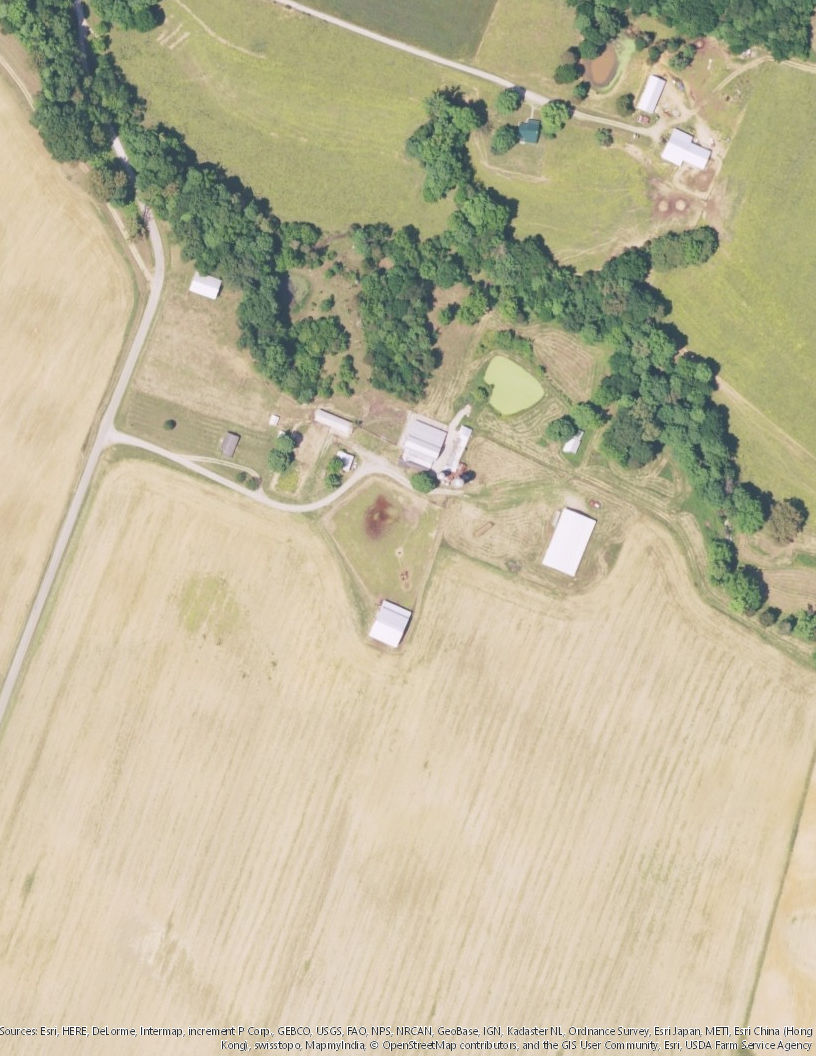cafo: (537, 506, 602, 576), (658, 126, 718, 175), (365, 596, 417, 649), (309, 407, 358, 437), (637, 70, 667, 115)
